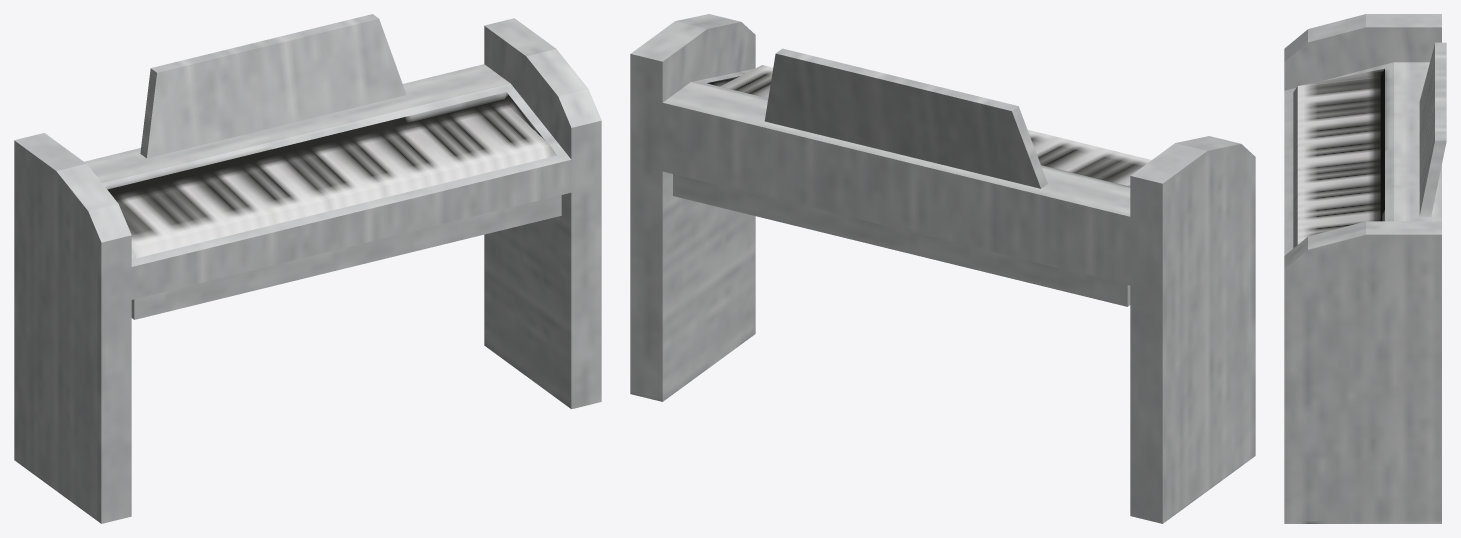
The model's file is int_piano_white.fbx.
The picture shows the model from 3 angles, left to right: view 1: azimuth 30°, elevation 25°; view 2: azimuth 150°, elevation 25°; view 3: azimuth 270°, elevation 25°; orthographic projection. The views are drawn at different scales.
Visible parts, largest first — view 1: piano_style2.002; view 2: piano_style2.002; view 3: piano_style2.002.
Part boxes in pixels (left/top/right/bottom): piano_style2.002: left=14, top=14, right=601, bottom=523; piano_style2.002: left=630, top=14, right=1255, bottom=523; piano_style2.002: left=1284, top=14, right=1446, bottom=523.
Bounding box in the file's own units: 215 × 146 × 66.91.
